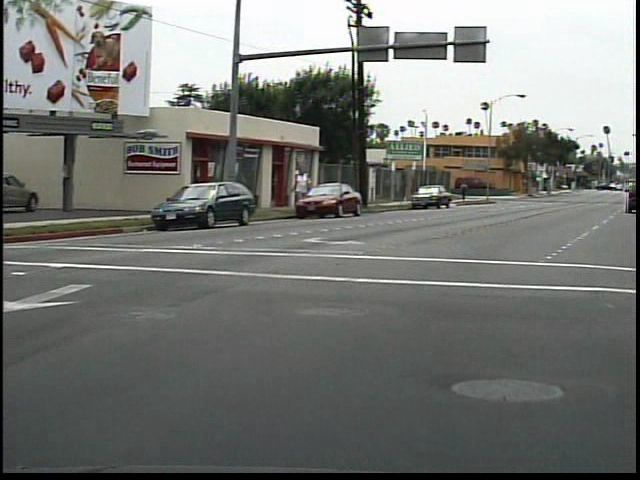person: (297, 161, 321, 214), (463, 179, 476, 205)
